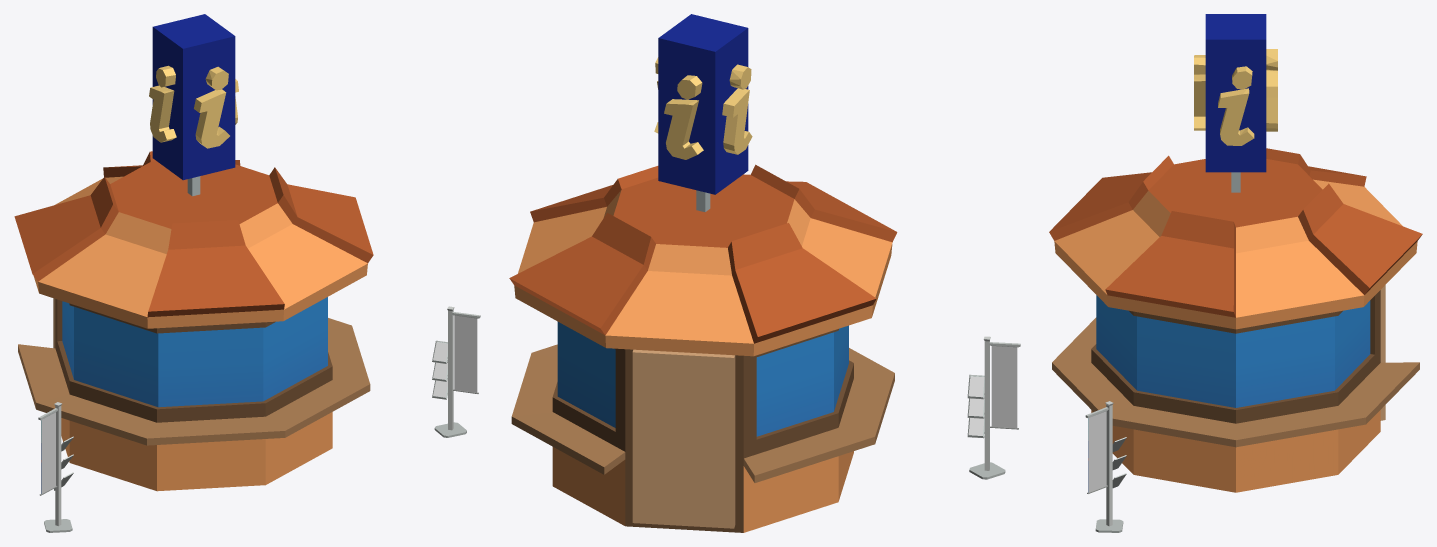
File: Information_Desk.fbx
3 views of the same model, side by side, from view 1: azimuth 30°, elevation 25°; view 2: azimuth 150°, elevation 25°; view 3: azimuth 270°, elevation 25° (orthographic). The views are drawn at different scales.
Parts seen in each view (by area): view 1: Information_Desk; view 2: Information_Desk; view 3: Information_Desk.
Part boxes in pixels (x1,y1,x2,y2): Information_Desk: (14,14,480,532); Information_Desk: (509,14,1020,532); Information_Desk: (1049,14,1422,532).
Bounding box in the file's own units: 667 × 586 × 491.
